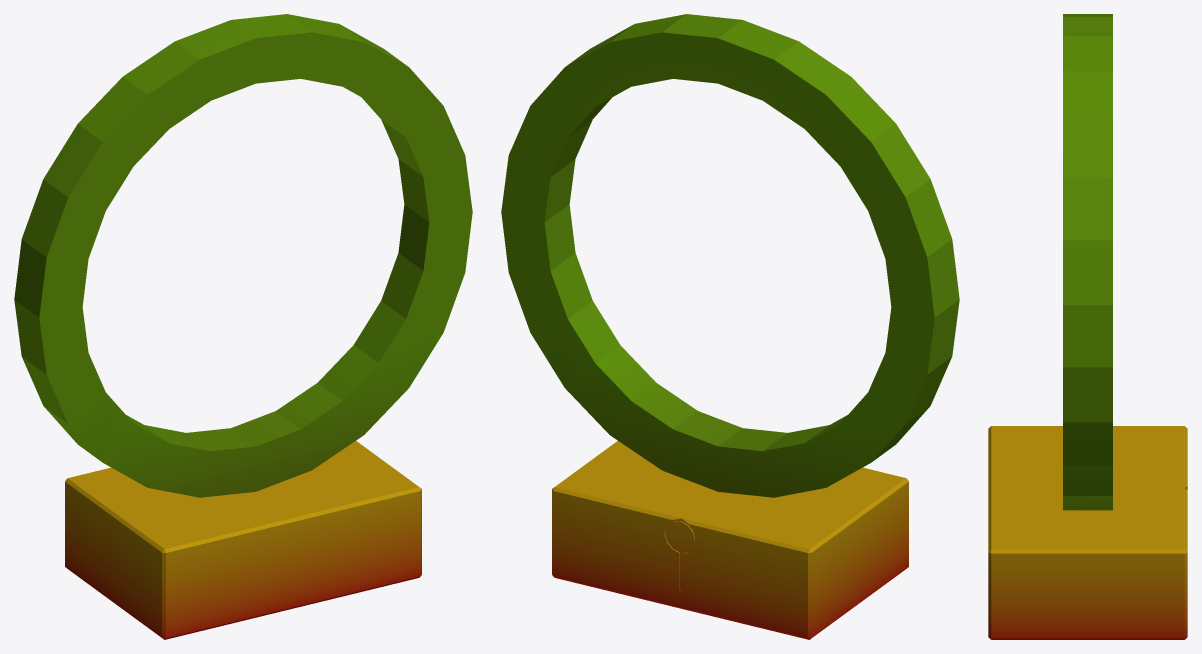
File: ring_monument.glb
3 views of the same model, side by side, from view 1: azimuth 30°, elevation 25°; view 2: azimuth 150°, elevation 25°; view 3: azimuth 270°, elevation 25° (orthographic).
Parts seen in each view (by area): view 1: ring_monument; view 2: ring_monument; view 3: ring_monument.
Part boxes in pixels (box(x1,y1,x2,y2)): ring_monument: box(14, 14, 472, 639); ring_monument: box(501, 14, 959, 639); ring_monument: box(988, 14, 1187, 639).
Size of what is drawn, in the model's own units: 5 by 6 by 2.
